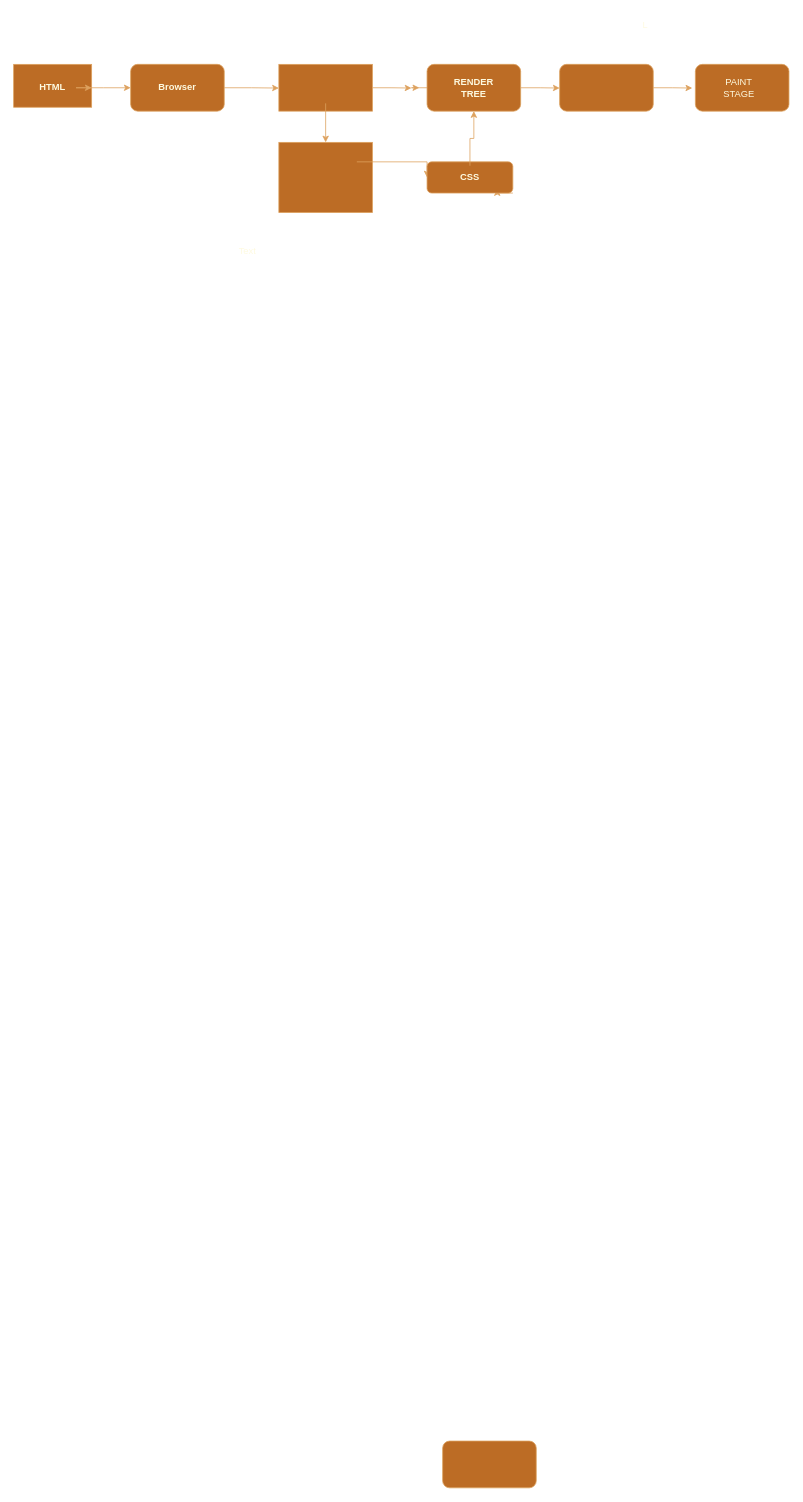
This 803x1502 diagram has some shape labels left out. Here are the shapes that lost their labels. From the top down, the centre of each, then its label:
pixel 325 87: DOM TREE
pixel 606 87: LAYOUT
pixel 325 177: head body <divs> <p>
